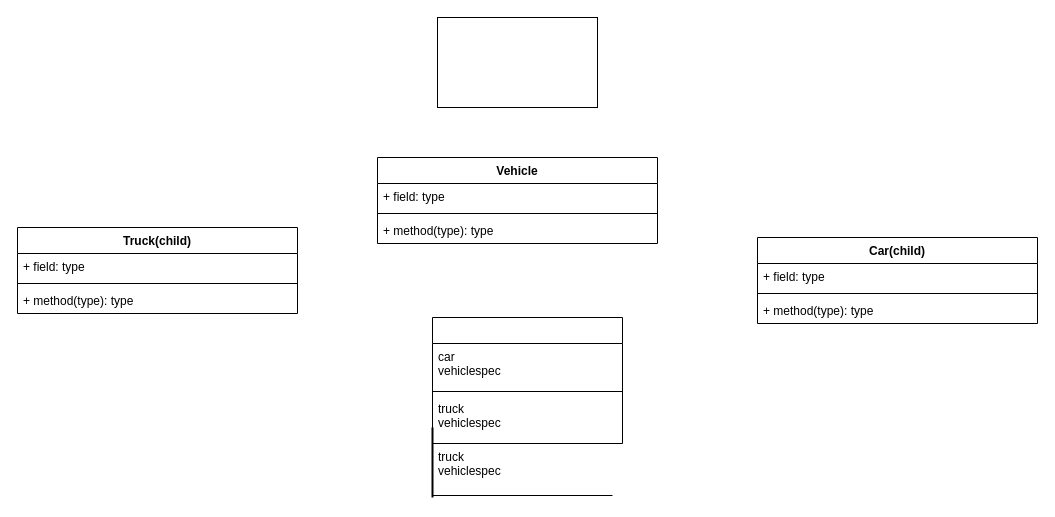
The diagram is 1055 pixels wide and 517 high, and some of its shapes have lost their labels. The shapes that lost their labels are listed below. From the top down, each one's box as (x1, y1, x2, y2) in pixels, then its label:
(436, 16, 598, 108): Object:Type field1 = value1 field2 = value2 field3 = value3
(432, 316, 622, 444): VehicleFactory
